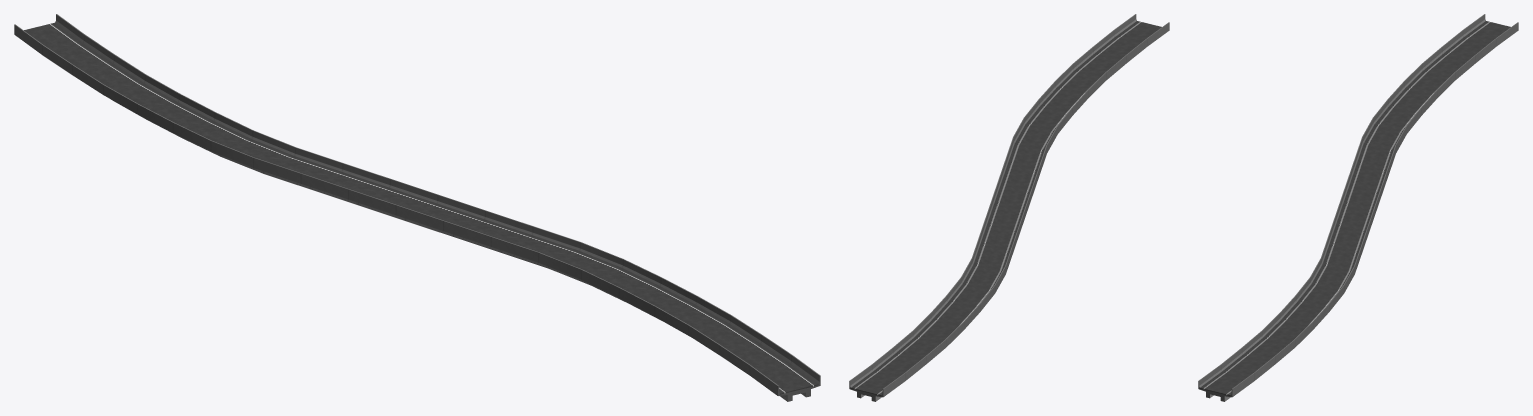
Rendered from 高速道路_カーブ_24.8m×100m_左斜め.fbx.
3 views of the same model, side by side, from view 1: azimuth 30°, elevation 25°; view 2: azimuth 150°, elevation 25°; view 3: azimuth 330°, elevation 25° (orthographic). The views are drawn at different scales.
Visible parts, largest first — view 1: 高架橋, 道路; view 2: 道路, 高架橋; view 3: 道路, 高架橋.
Part boxes in pixels (<box>): 高架橋: <box>14,14,820,401</box>; 道路: <box>24,22,818,394</box>; 道路: <box>850,21,1161,395</box>; 高架橋: <box>849,14,1169,401</box>; 道路: <box>1199,21,1510,395</box>; 高架橋: <box>1198,14,1518,401</box>.
Bounding box in the file's own units: 25.2 × 1.8 × 100.
